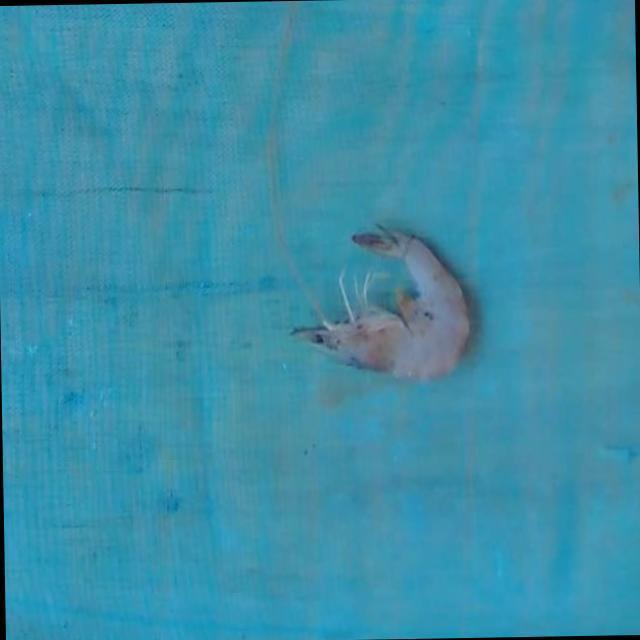shrimp: (294, 232, 469, 379)
